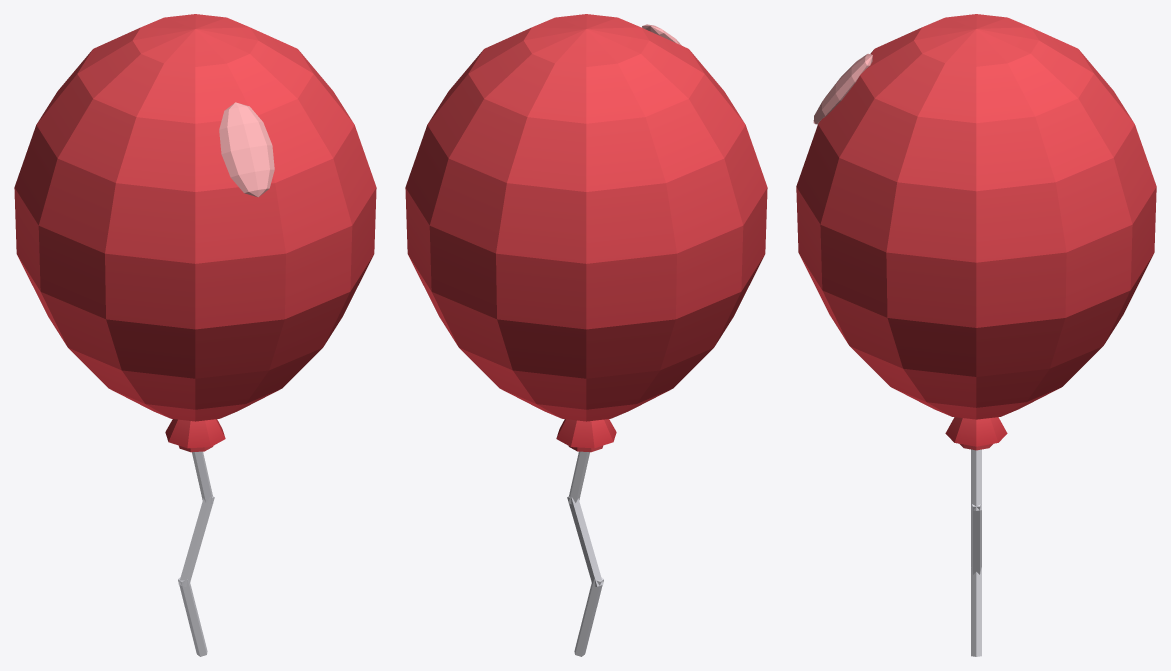
The model's file is balloon_red.glb.
3 views of the same model, side by side, from view 1: azimuth 30°, elevation 25°; view 2: azimuth 150°, elevation 25°; view 3: azimuth 270°, elevation 25° (orthographic).
Visible parts, largest first — view 1: balloon, string; view 2: balloon, string; view 3: balloon, string.
Part boxes in pixels (box(x1,y1,x2,y2)): balloon: box(14, 14, 376, 452); string: box(178, 451, 214, 656); balloon: box(405, 14, 767, 452); string: box(567, 451, 603, 656); balloon: box(796, 14, 1156, 450); string: box(971, 449, 981, 656).
Size of the model in its own units: 0.9848 by 1.88 by 0.9848.
1 material, 1 textured.
